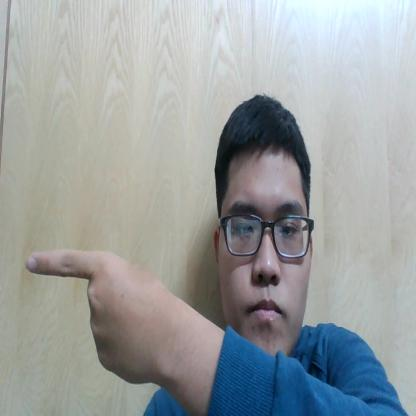right: (19, 237, 196, 401)
